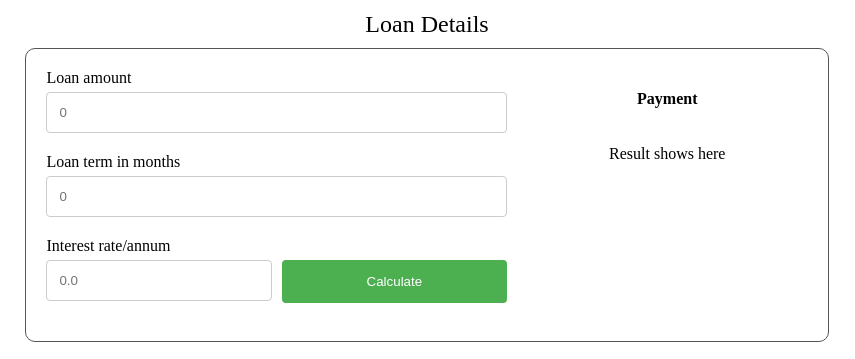
Test: Request to API endpoint › Properly filled fields renders the result text
The image size is (855, 359).
Step 1. Type "100" into the number field labelled "Loan amount" → (277, 112), box left=46, top=92, right=507, bottom=132
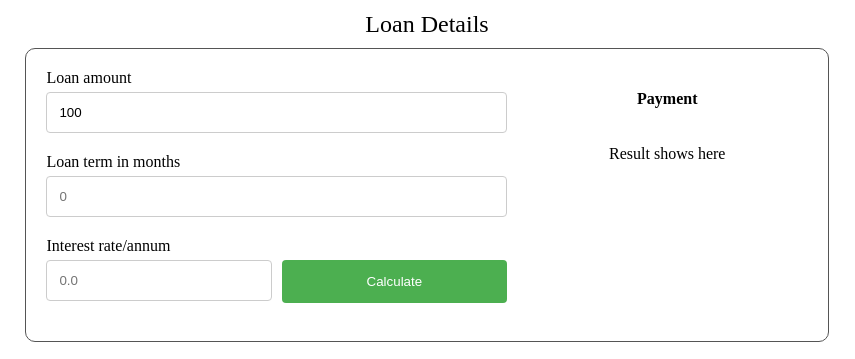
Step 2. Type "6" into the number field labelled "Loan term in months" → (277, 196), box left=46, top=176, right=507, bottom=216
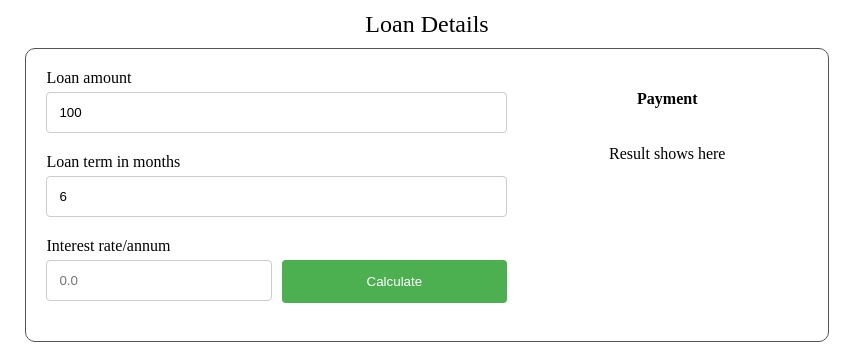
Step 3. Type "10" into the number field with placeholder "0.0" → (159, 280), box left=46, top=260, right=272, bottom=300
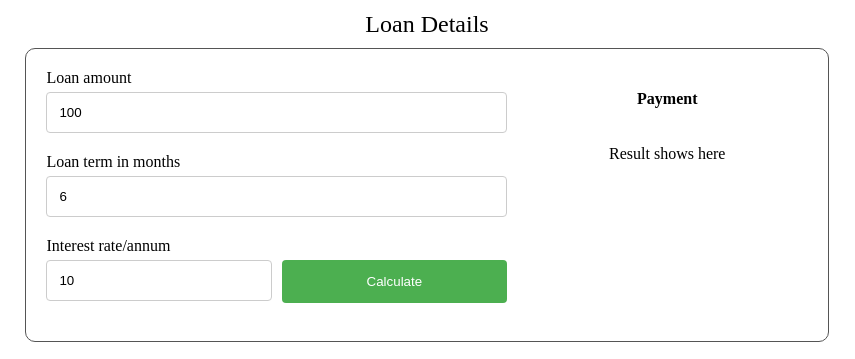
Step 4. Click the button "Calculate" → click(394, 281), box left=282, top=260, right=507, bottom=302
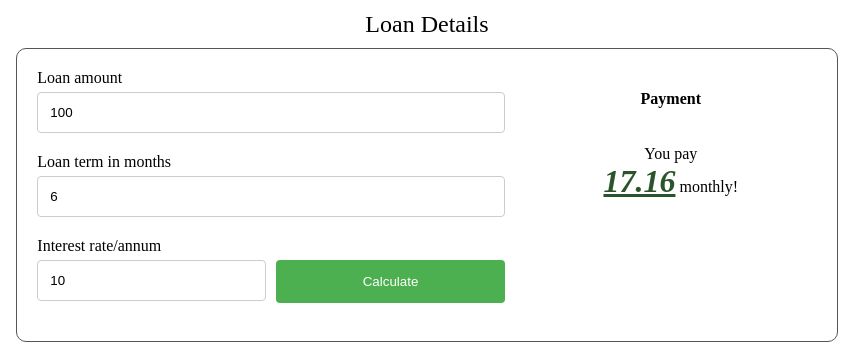
expect the text "You pay 17.16 monthly!" is shown: met, box left=604, top=145, right=738, bottom=200
